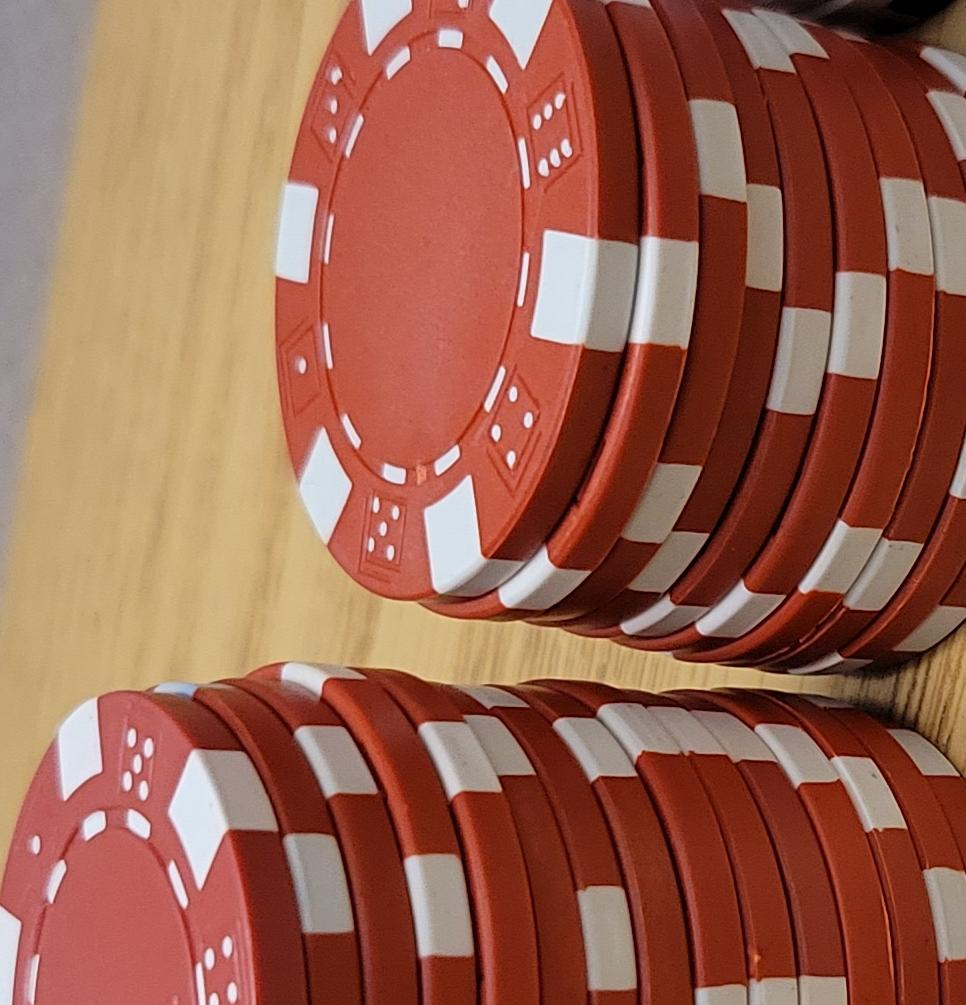Chip: (1, 248, 430, 1005)
